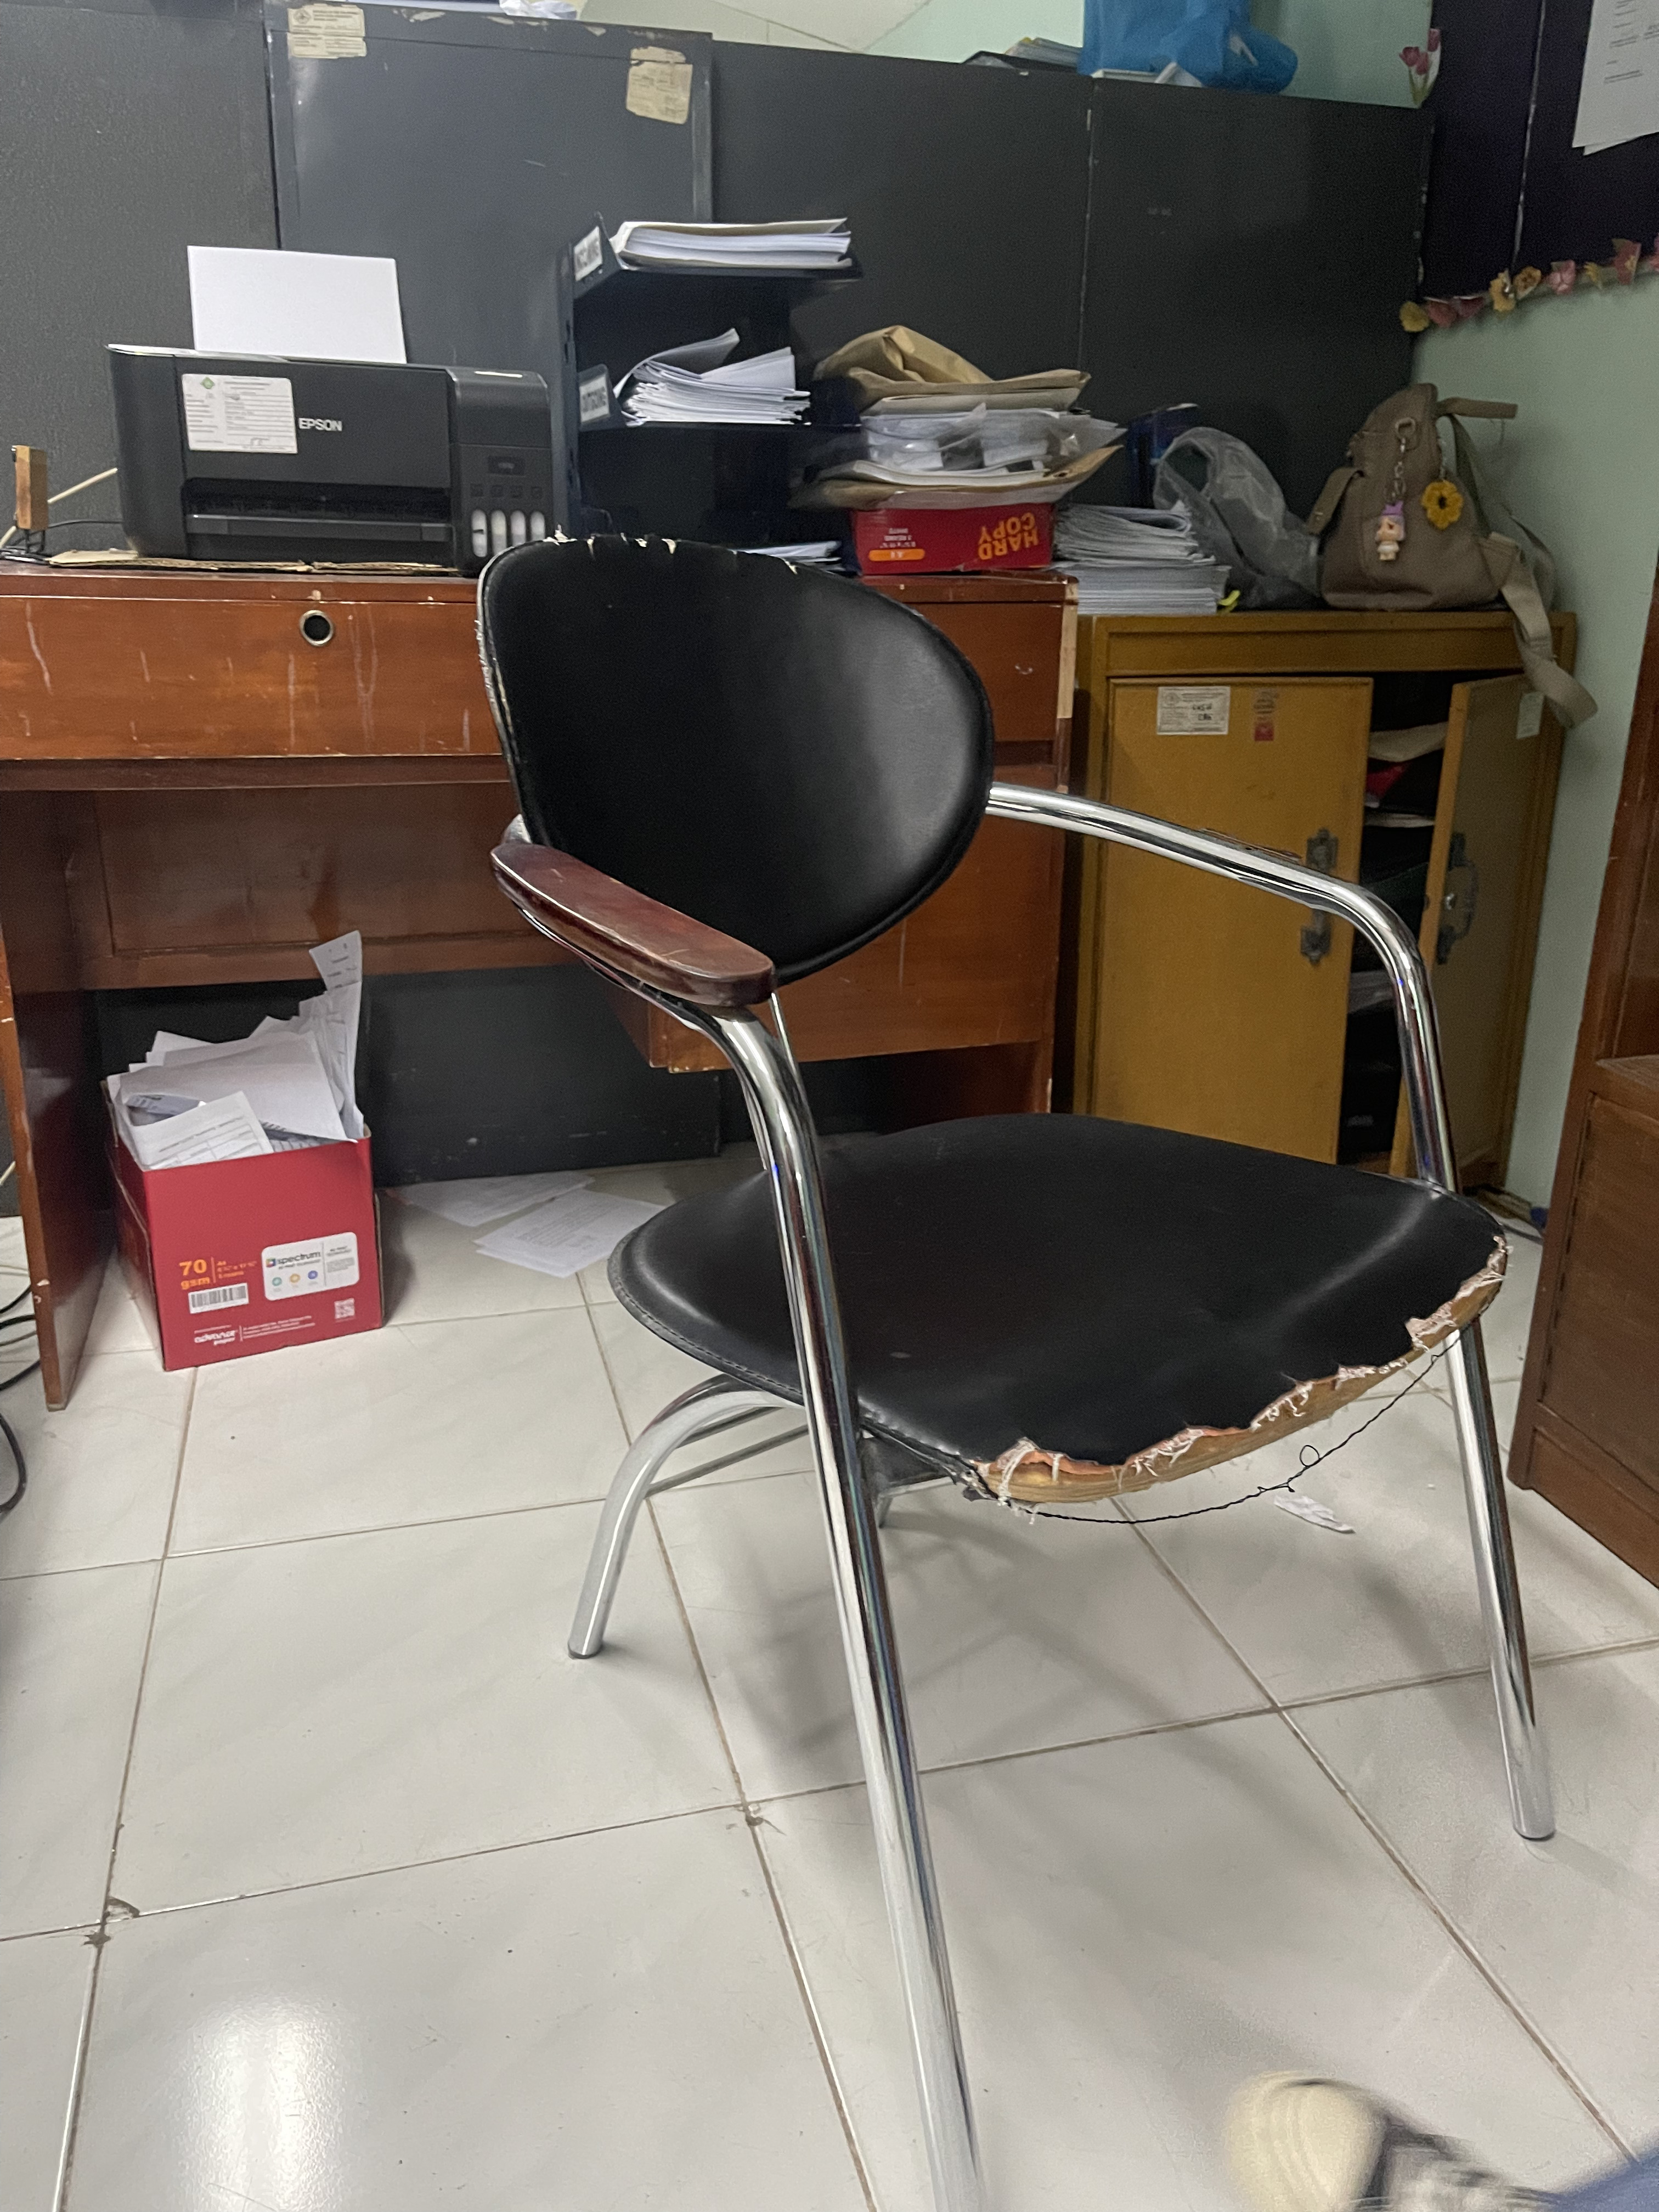chair1: (476, 538, 1567, 2212)
